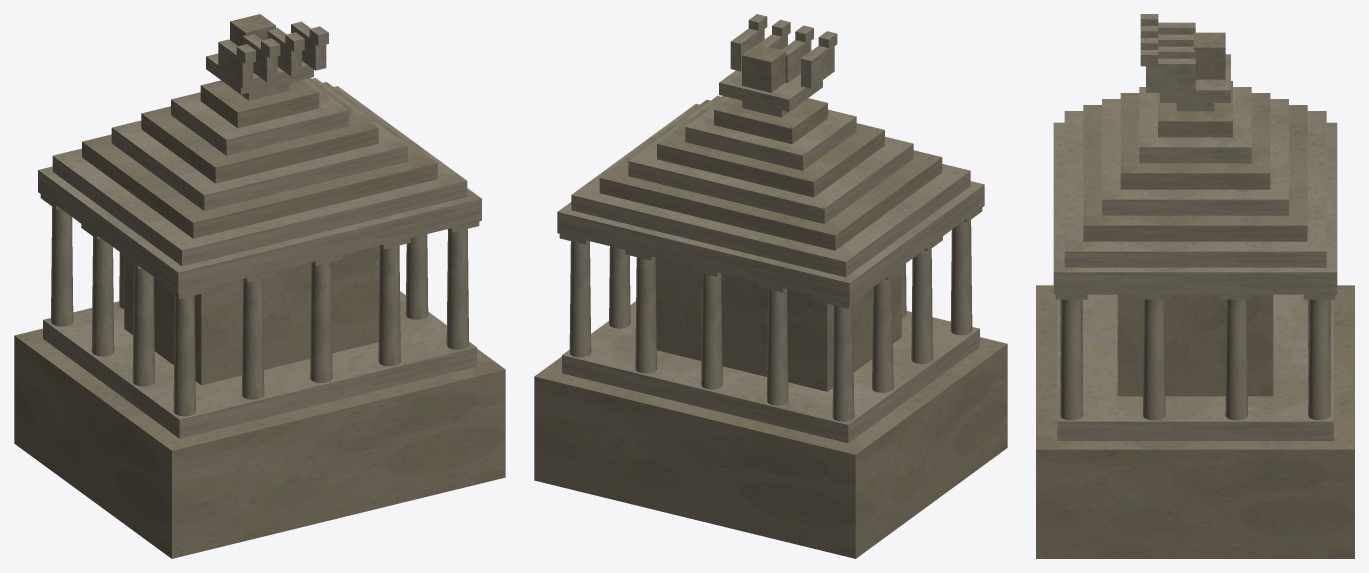
Rendered from mausoleum.glb.
3 renders of one model, left to right at view 1: azimuth 30°, elevation 25°; view 2: azimuth 150°, elevation 25°; view 3: azimuth 270°, elevation 25°, orthographic. The views are drawn at different scales.
Size of the model in its own units: 11 by 13.78 by 9.
2 materials, 2 textured.
